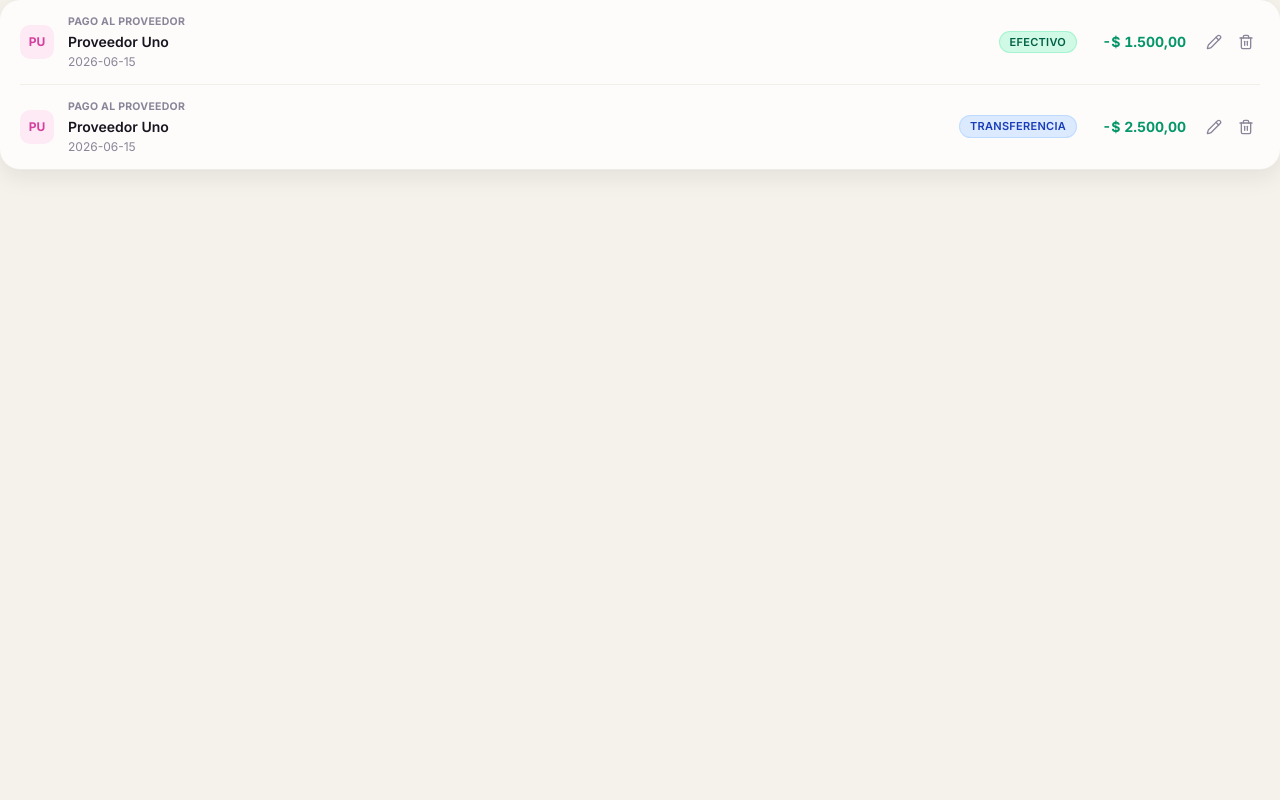
Test: PagosList — read-only detail dialog › closes the detail dialog
This screenshot has width=1280, height=800.
expect the text "EFECTIVO" is shown: met, box [1000,32,1076,52]
Step 1. Click the button with aria-label "ver detalle del pago pago-1" → [37, 42], box [20,14,1186,70]
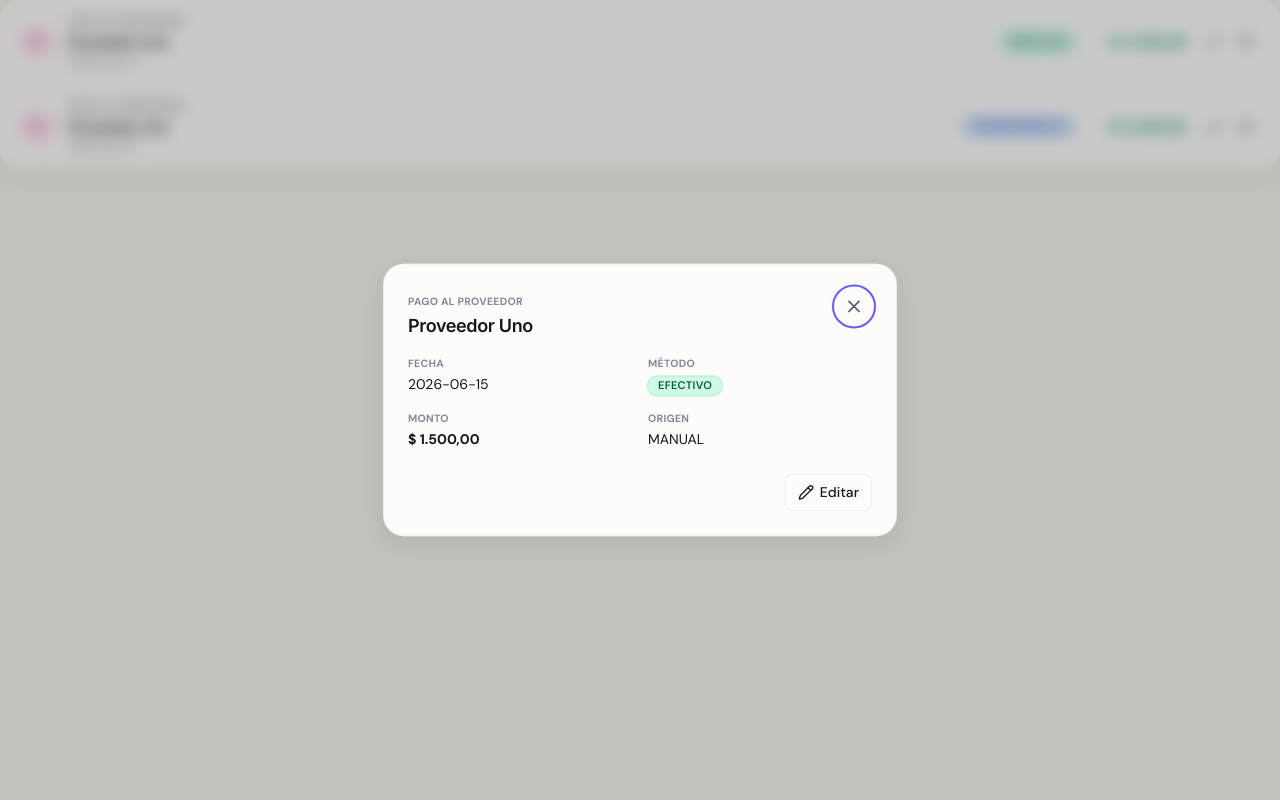
expect the dialog with test id "pago-detail-dialog" is shown: met, box [384,264,896,536]
Step 2. Click the button named "cerrar" → [854, 306], box [836,288,872,324]
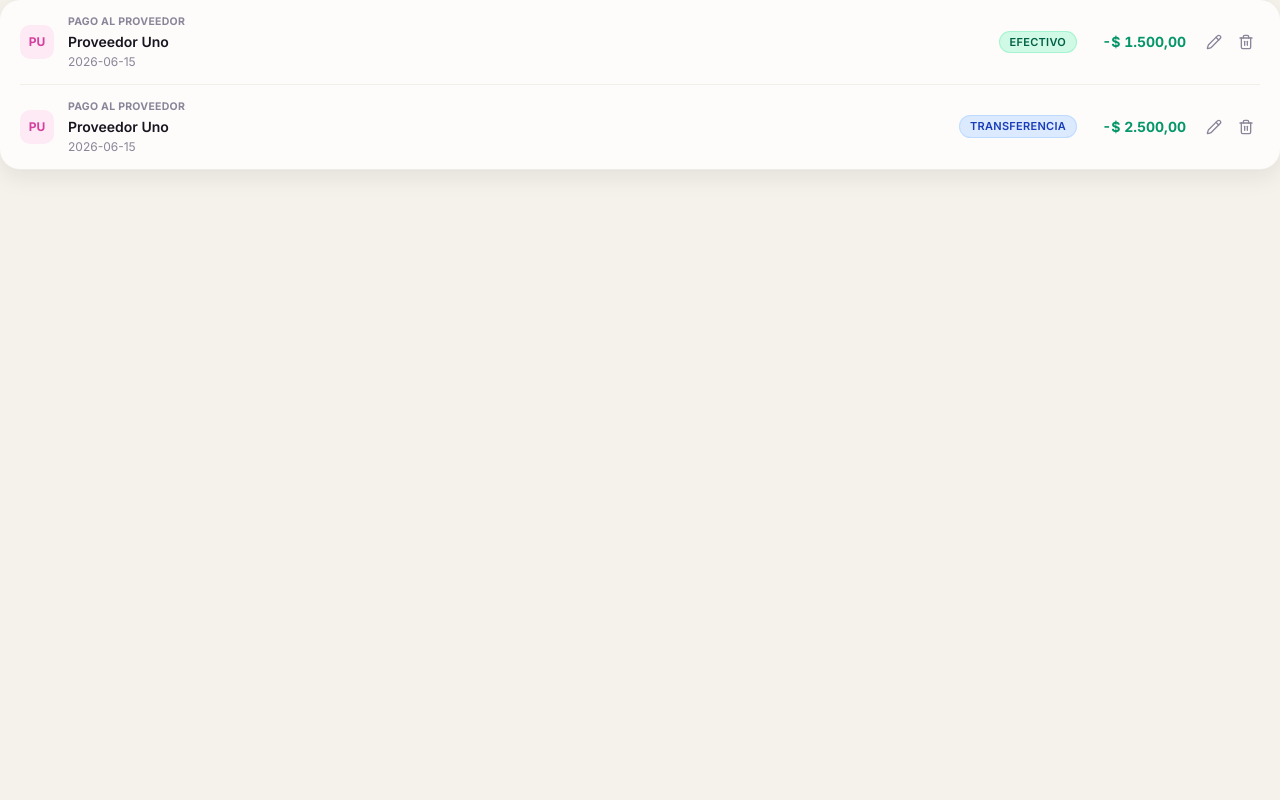
expect the dialog with test id "pago-detail-dialog" is gone: met
